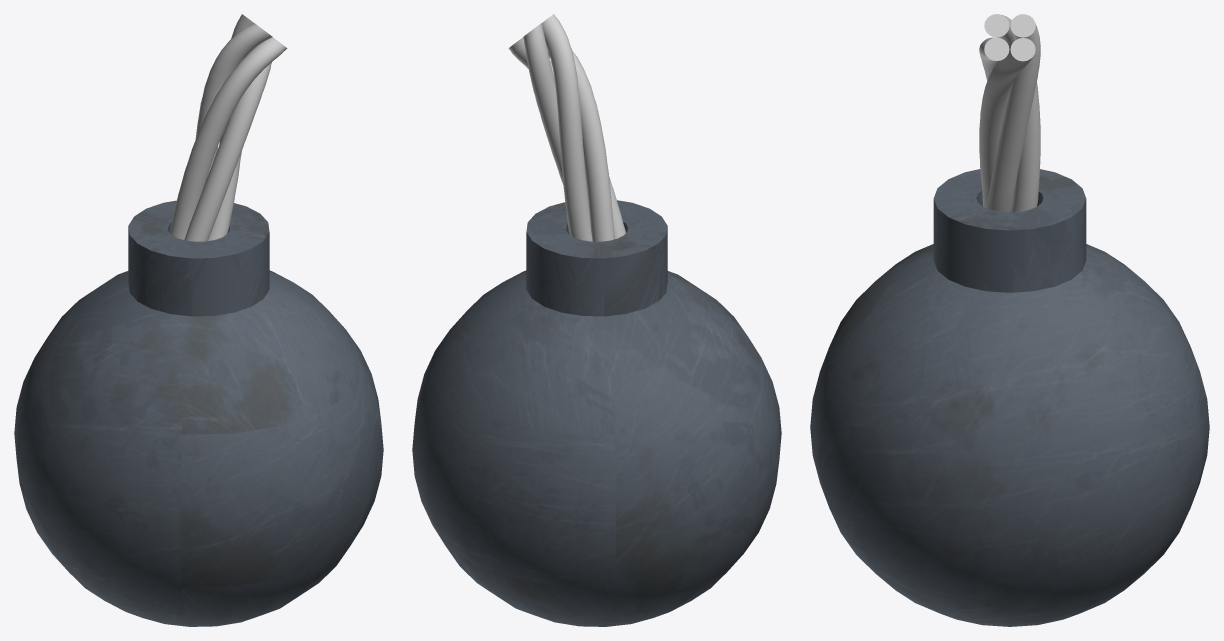
Rendered from bomb.fbx.
The picture shows the model from 3 angles, left to right: view 1: azimuth 30°, elevation 25°; view 2: azimuth 150°, elevation 25°; view 3: azimuth 270°, elevation 25°; orthographic projection. The views are drawn at different scales.
Parts seen in each view (by area): view 1: pSphere1, pPipe1, pCylinder14; view 2: pSphere1, pPipe1, pCylinder14; view 3: pSphere1, pPipe1, pCylinder14.
Part boxes in pixels (<box>): pSphere1: <box>14,270,383,626</box>; pPipe1: <box>128,200,269,316</box>; pCylinder14: <box>170,14,287,241</box>; pSphere1: <box>412,270,781,626</box>; pPipe1: <box>526,200,667,316</box>; pCylinder14: <box>508,14,625,241</box>; pSphere1: <box>810,244,1209,626</box>; pPipe1: <box>933,169,1086,292</box>; pCylinder14: <box>979,14,1040,212</box>.
Size of the model in its own units: 1.2 by 2.06 by 1.2.
